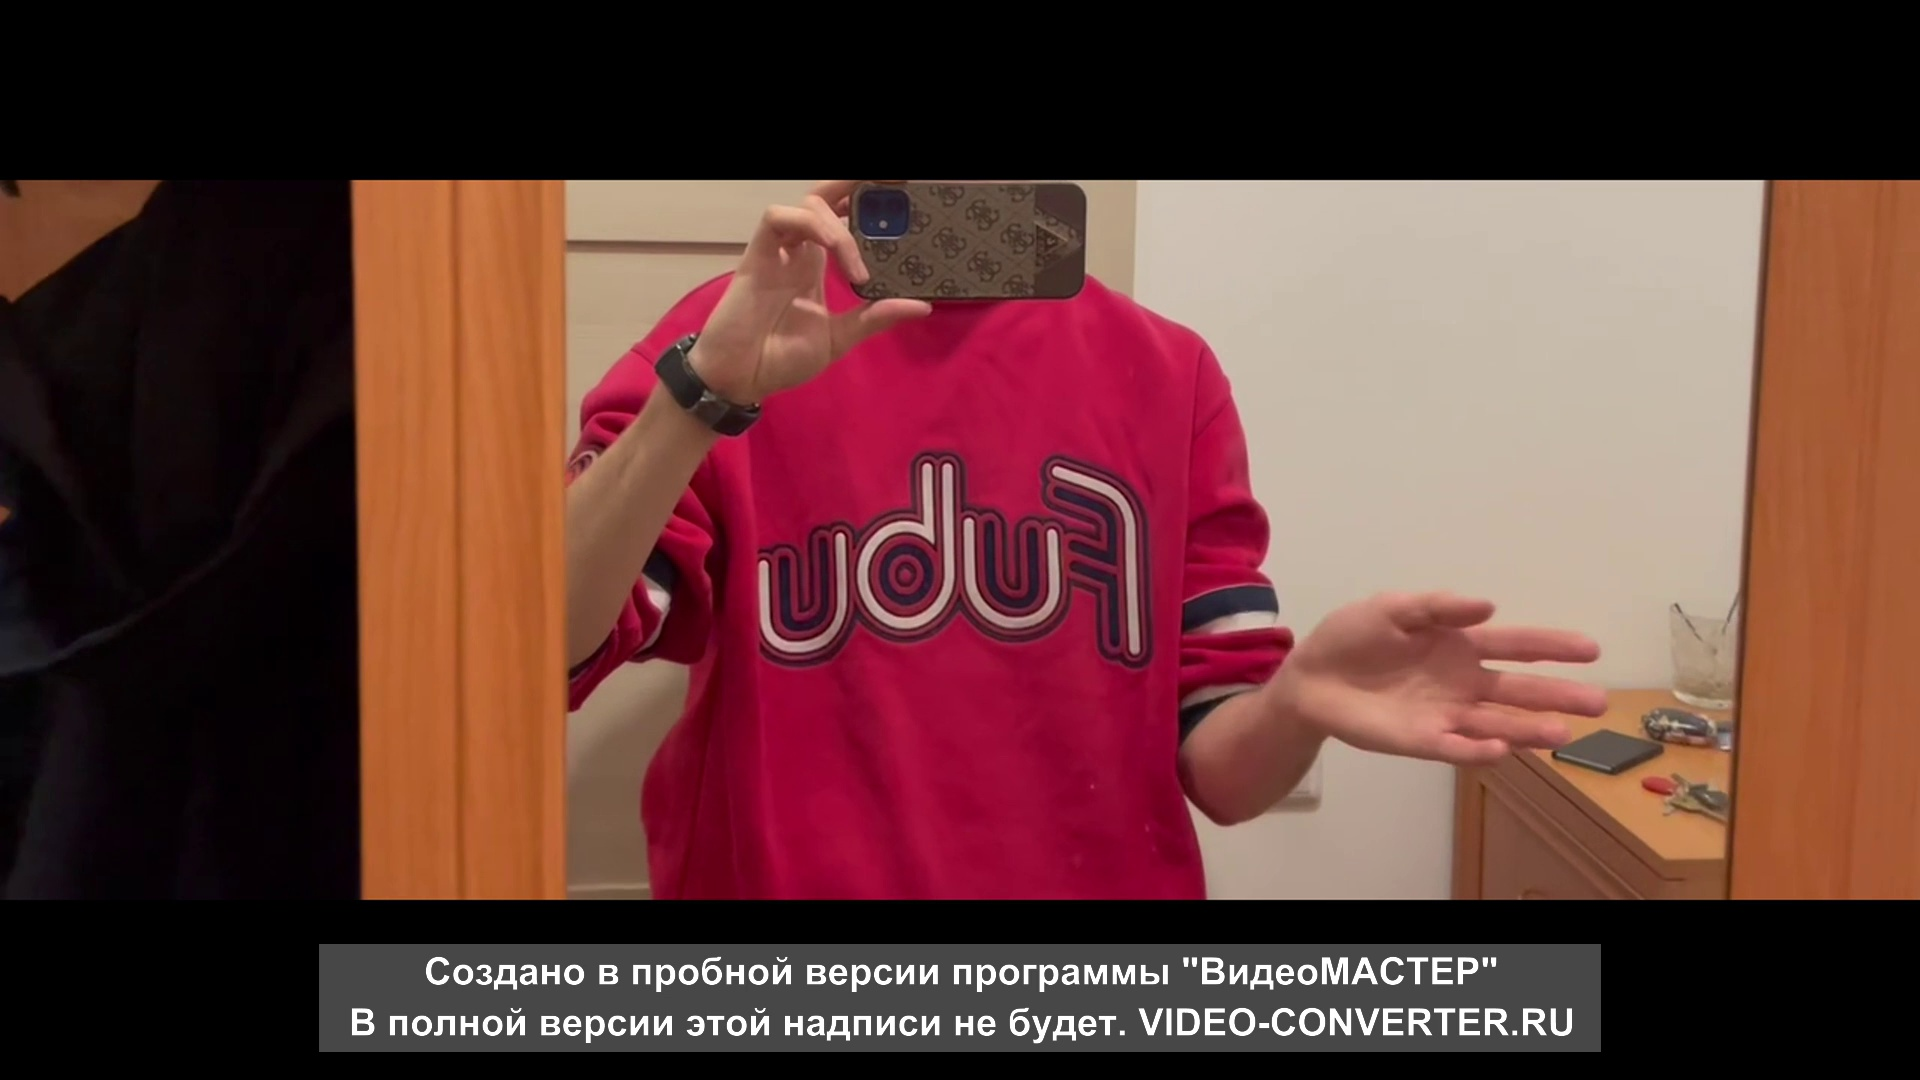Ладонь: (1296, 582, 1606, 765)
